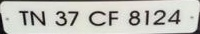character: (87, 10, 106, 26), (30, 10, 46, 26), (152, 9, 166, 25), (54, 10, 67, 26), (128, 9, 140, 26), (167, 9, 180, 24), (108, 10, 119, 27), (67, 10, 78, 26), (19, 10, 29, 25), (143, 9, 150, 26)
